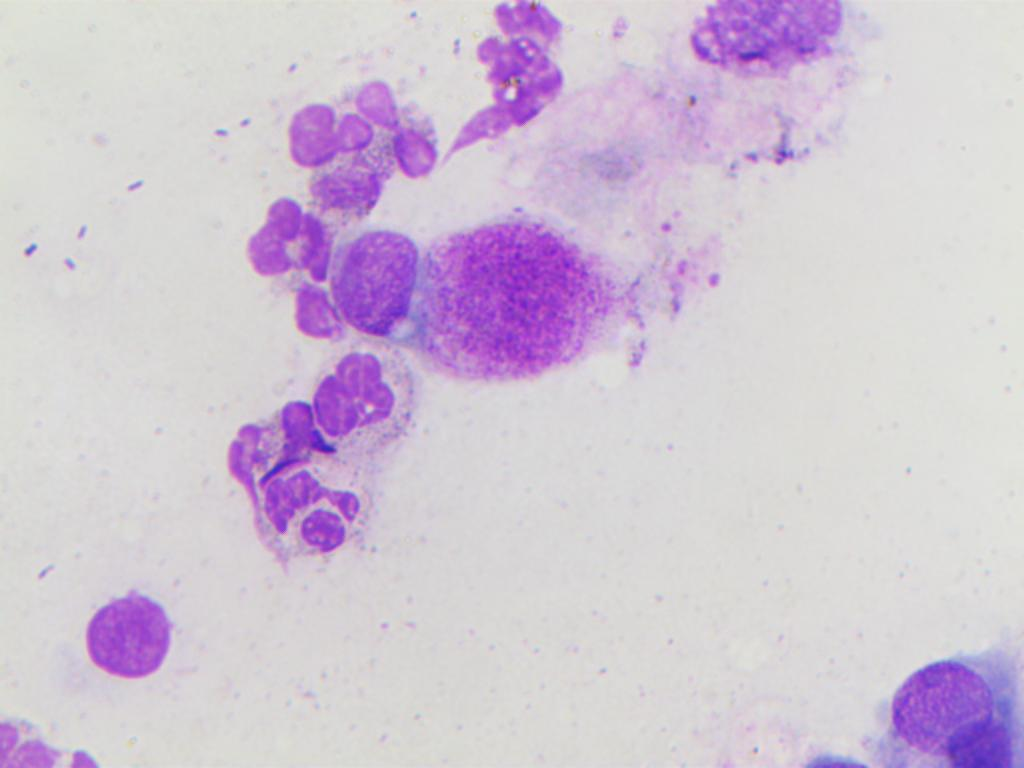artifact: (446, 2, 574, 153), (684, 4, 871, 79)
epithelial: (870, 652, 1014, 767), (72, 586, 184, 690)
goblet_cell: (312, 208, 616, 379)
neutrophil: (219, 394, 366, 570), (280, 66, 442, 220), (296, 339, 434, 469), (238, 196, 334, 344)
